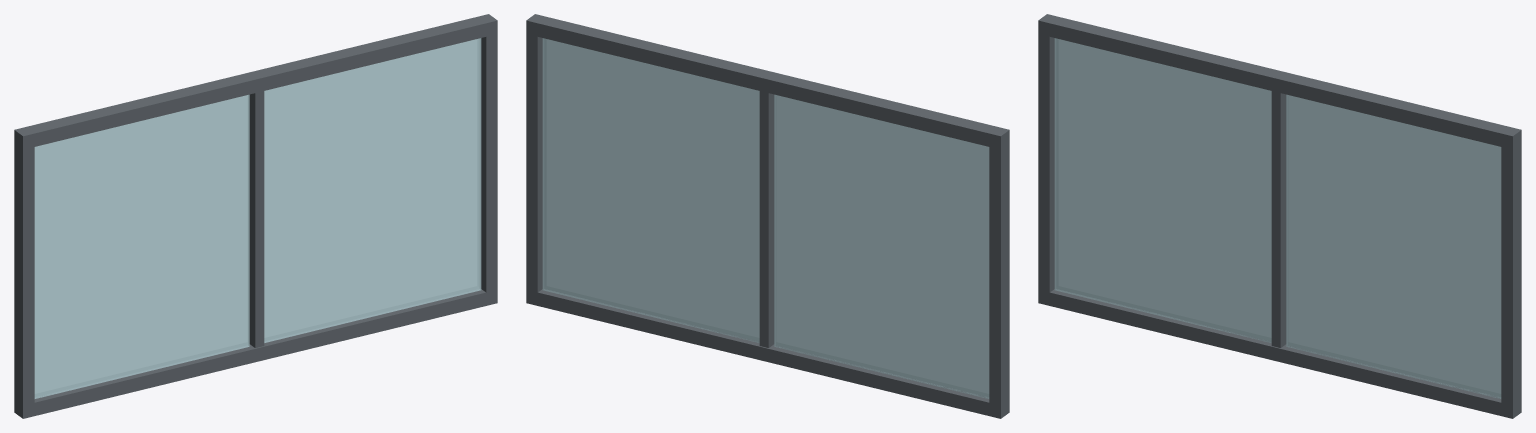
The model's file is baranda-negro-esmerilado.glb.
3 views of the same model, side by side, from view 1: azimuth 30°, elevation 25°; view 2: azimuth 150°, elevation 25°; view 3: azimuth 330°, elevation 25° (orthographic).
Parts seen in each view (by area): view 1: glass0.45, glass-0.45, rail1.0250000000000001, rail0.025, post-0.9, post0.9, center; view 2: glass0.45, glass-0.45, rail1.0250000000000001, rail0.025, post-0.9, post0.9, center; view 3: glass-0.45, glass0.45, rail1.0250000000000001, rail0.025, post0.9, post-0.9, center.
Part boxes in pixels (<box>): glass0.45: <box>264,38,481,342</box>; glass-0.45: <box>34,94,249,398</box>; rail1.0250000000000001: <box>26,15,491,147</box>; rail0.025: <box>29,289,491,415</box>; post-0.9: <box>14,127,34,418</box>; post0.9: <box>478,14,497,305</box>; center: <box>248,71,264,347</box>; glass0.45: <box>542,38,759,342</box>; glass-0.45: <box>774,94,989,398</box>; rail1.0250000000000001: <box>532,15,999,148</box>; rail0.025: <box>532,289,994,417</box>; post-0.9: <box>989,127,1009,418</box>; post0.9: <box>526,14,545,304</box>; center: <box>759,71,775,347</box>; glass-0.45: <box>1054,38,1271,342</box>; glass0.45: <box>1286,94,1501,398</box>; rail1.0250000000000001: <box>1044,15,1511,147</box>; rail0.025: <box>1044,289,1506,417</box>; post0.9: <box>1501,127,1521,418</box>; post-0.9: <box>1038,14,1058,305</box>; center: <box>1271,71,1287,347</box>.
Bounding box in the file's own units: 1.85 × 1.05 × 0.06.
